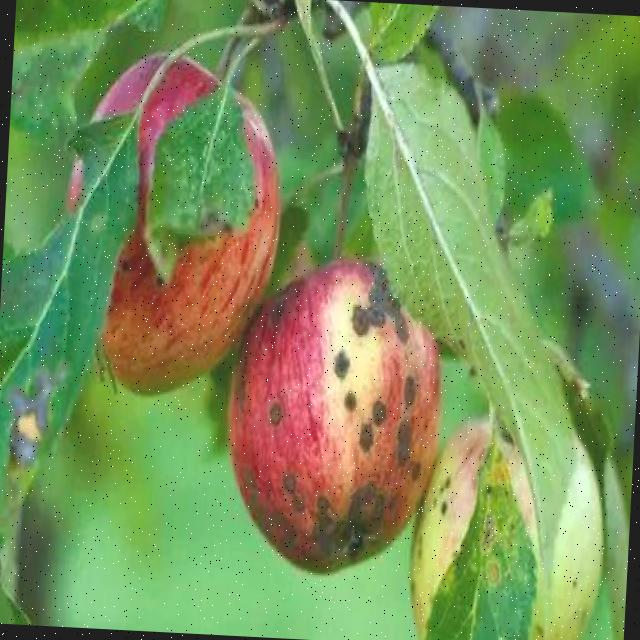apple: (22, 0, 314, 423)
rotten apple: (204, 228, 477, 594), (388, 356, 607, 640)
